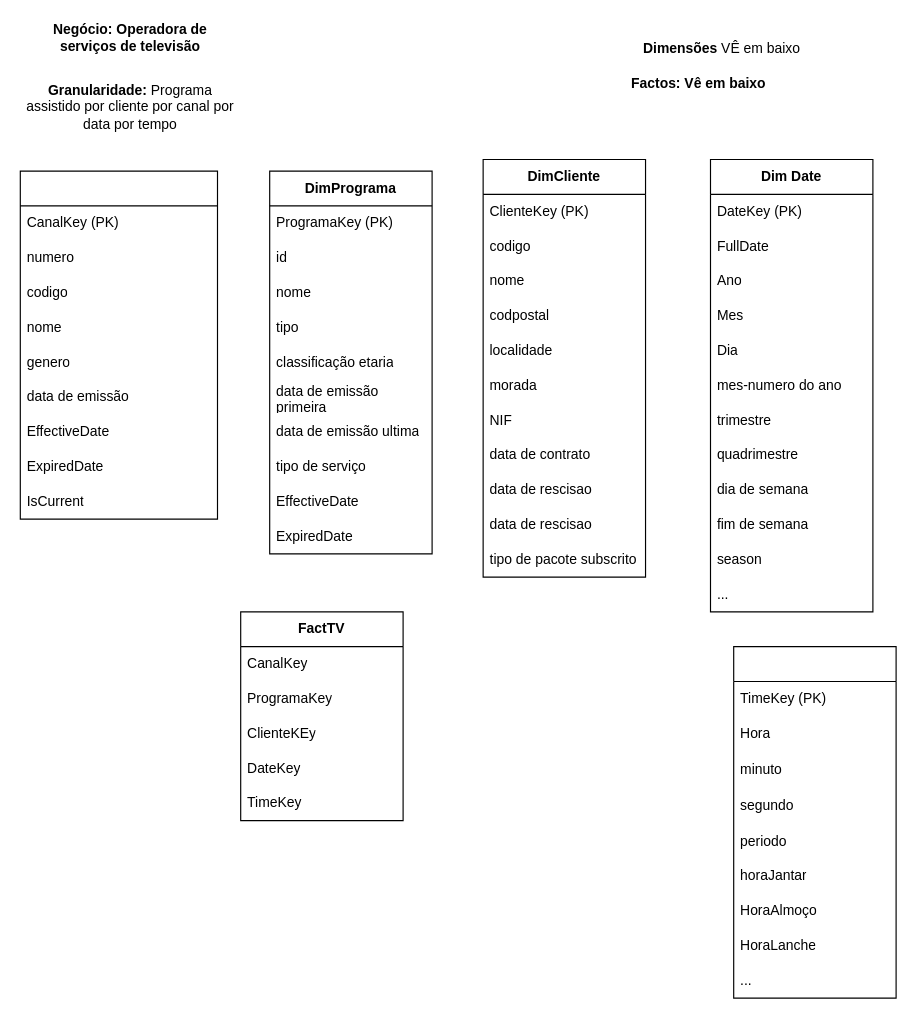
Some shapes in this 916 by 1018 pixel diagram are drawn without their labels. Here are the shapes that lost their labels. From the top down, the box of each, then its label:
(19, 170, 217, 519): DimCanal
(733, 646, 896, 998): DimTime
